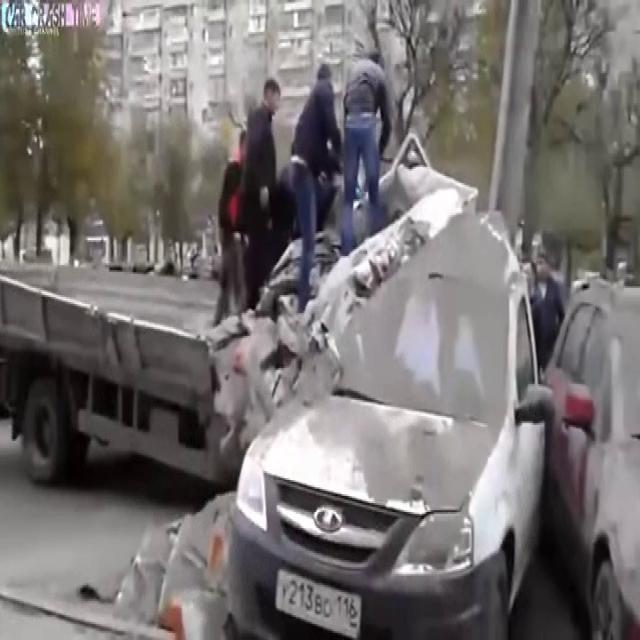accident: (180, 208, 442, 578)
